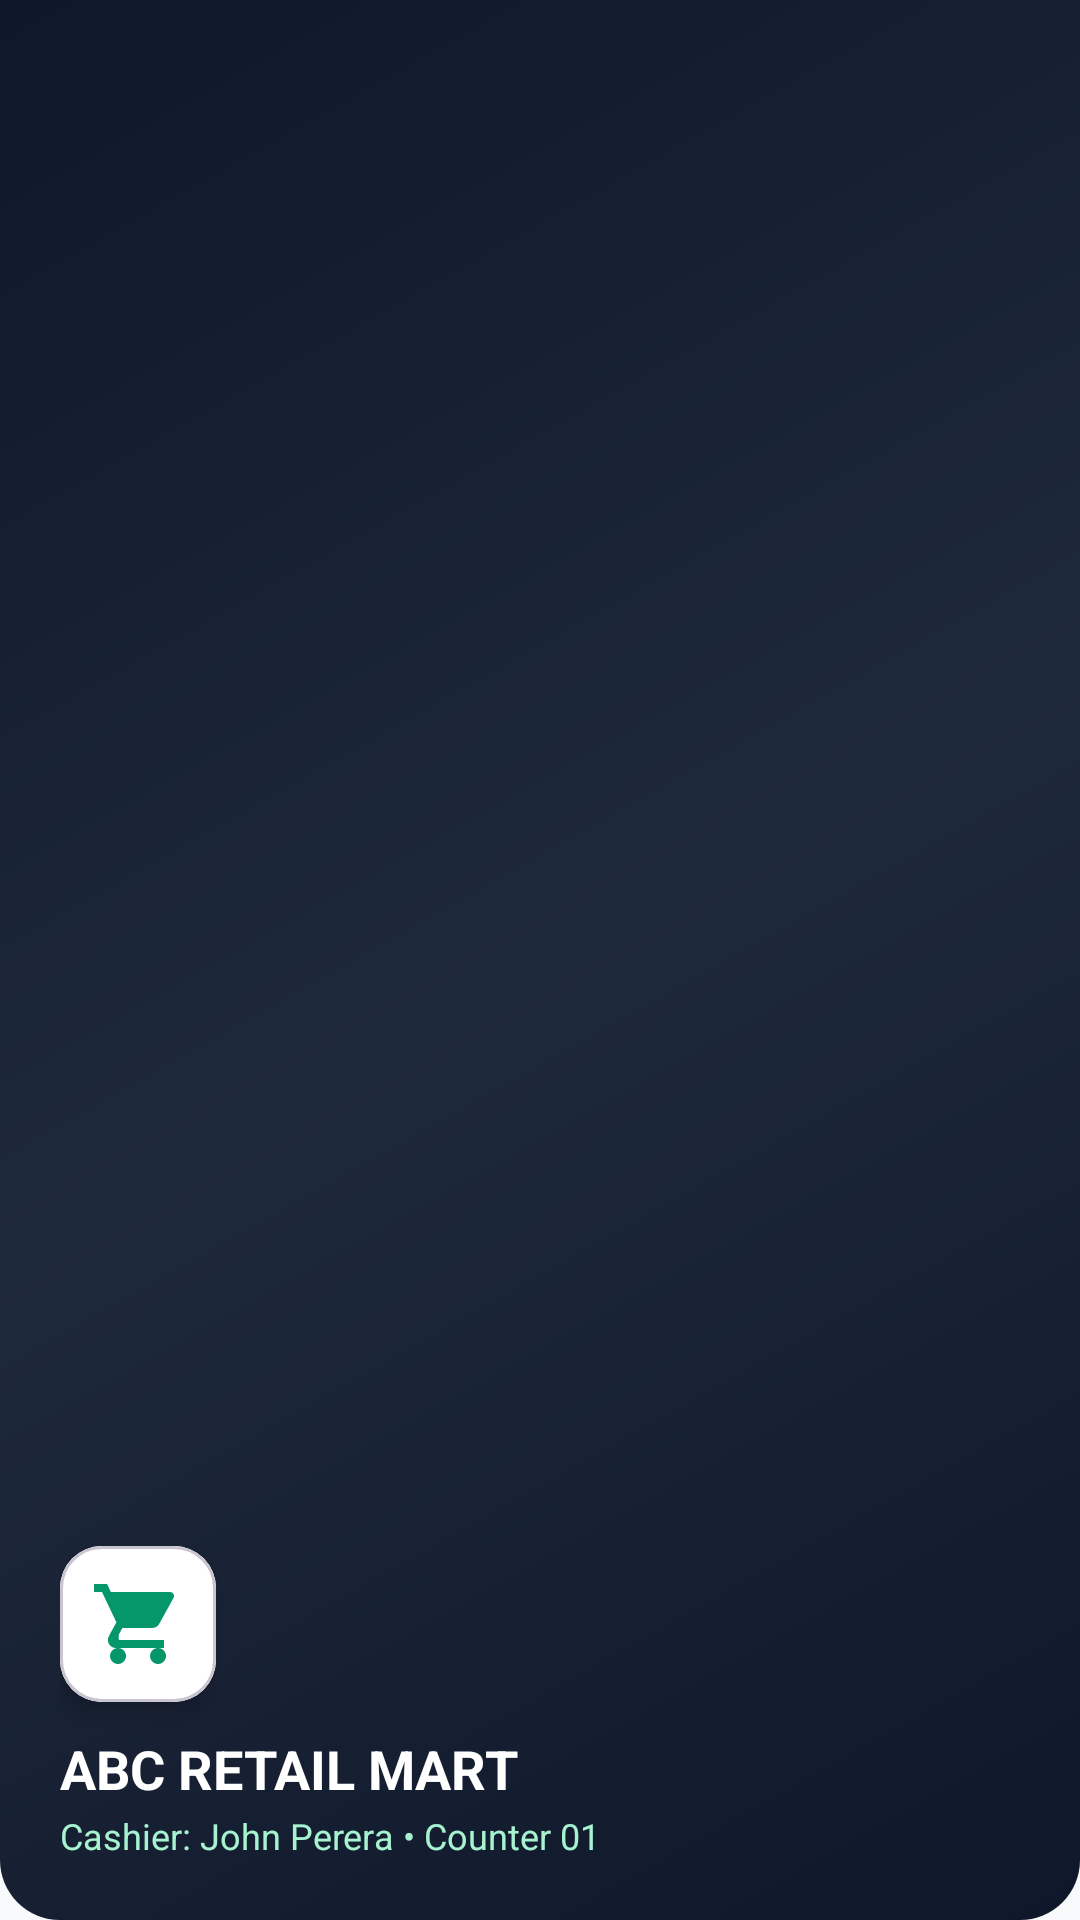

Where icons sit on this 1080px x 1920px app screen, as {"left": x1, "top": y1, "right": x2, "bottom": y2}:
pos: {"left": 94, "top": 1584, "right": 174, "bottom": 1664}
